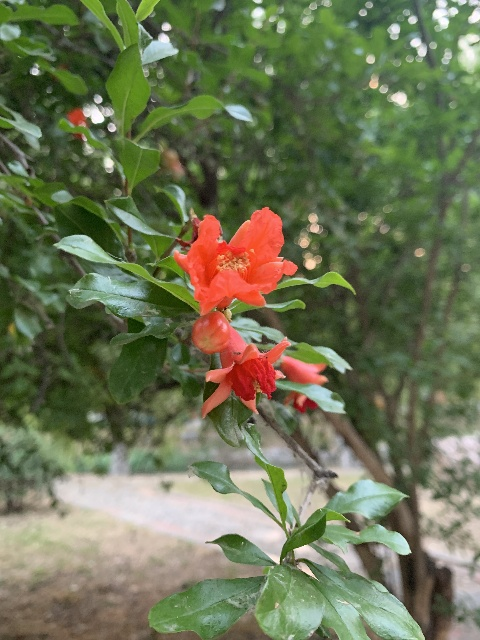bud: (191, 311, 231, 354)
early-fruit: (142, 610, 315, 640)
flower: (172, 207, 296, 315), (201, 324, 291, 418), (277, 355, 329, 411)
